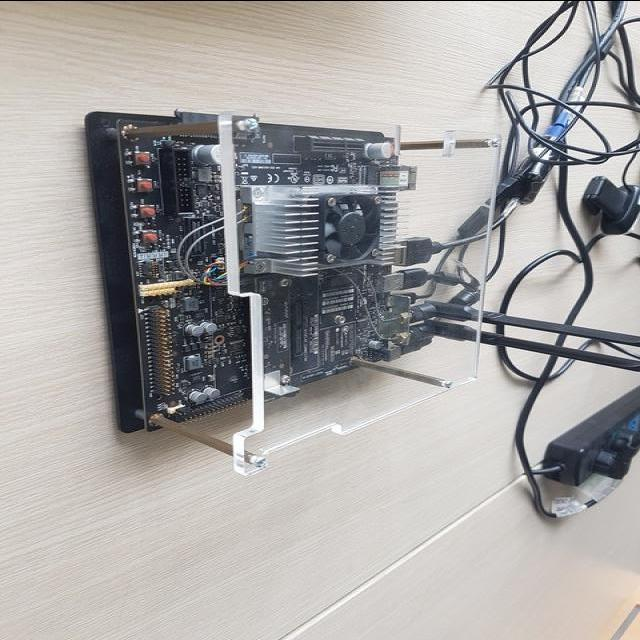Jetson TX2: (86, 112, 480, 472), (481, 313, 640, 362)
